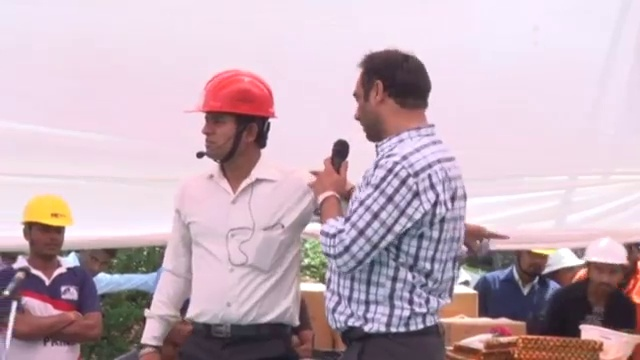helmet: (181, 71, 286, 123), (16, 191, 71, 231), (580, 240, 633, 269), (538, 248, 582, 277)
helmet_off: (351, 48, 441, 147), (151, 294, 196, 358), (74, 248, 112, 285), (516, 245, 556, 280)
helmet_on: (179, 70, 287, 183), (18, 194, 72, 272), (582, 238, 633, 295)
person: (141, 57, 327, 360), (317, 41, 469, 360), (0, 192, 103, 360), (550, 248, 640, 338), (478, 244, 563, 328)
